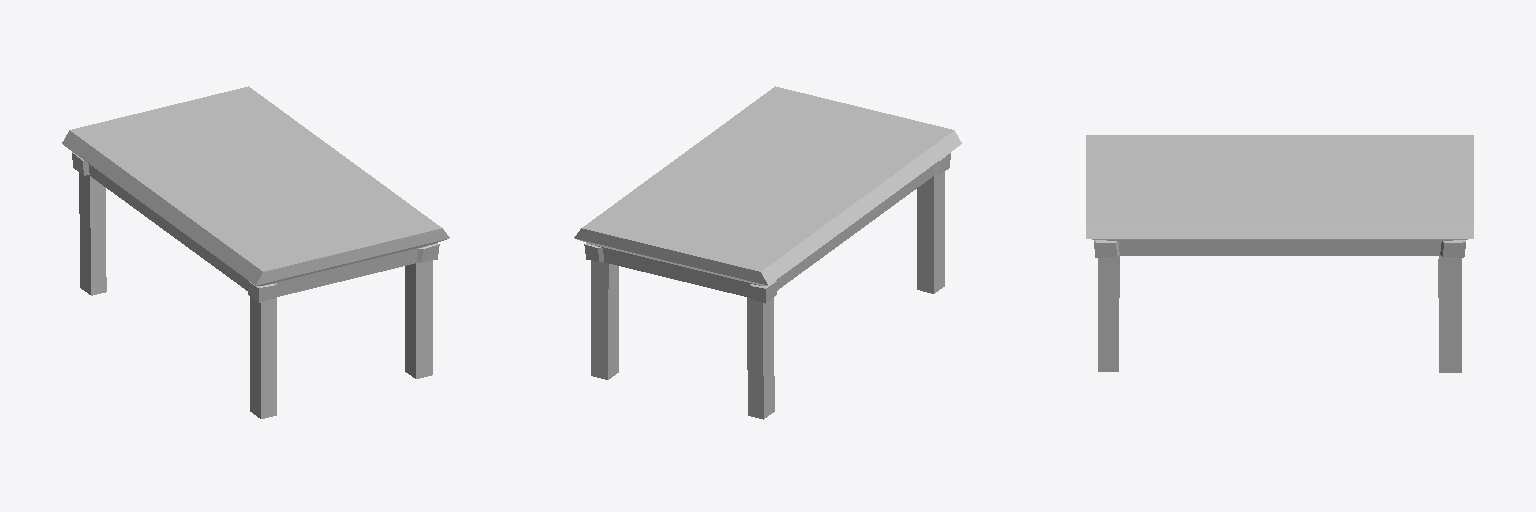
File: Dining_Table.obj
The picture shows the model from 3 angles: view 1: azimuth 30°, elevation 25°; view 2: azimuth 150°, elevation 25°; view 3: azimuth 270°, elevation 25°; orthographic projection.
Parts seen in each view (by area): view 1: Cube; view 2: Cube; view 3: Cube.
Part boxes in pixels (bbox=[...]): Cube: bbox=[62, 86, 449, 418]; Cube: bbox=[574, 86, 961, 419]; Cube: bbox=[1086, 135, 1473, 372].
Size of the model in its own units: 6.51 by 4.91 by 11.22.